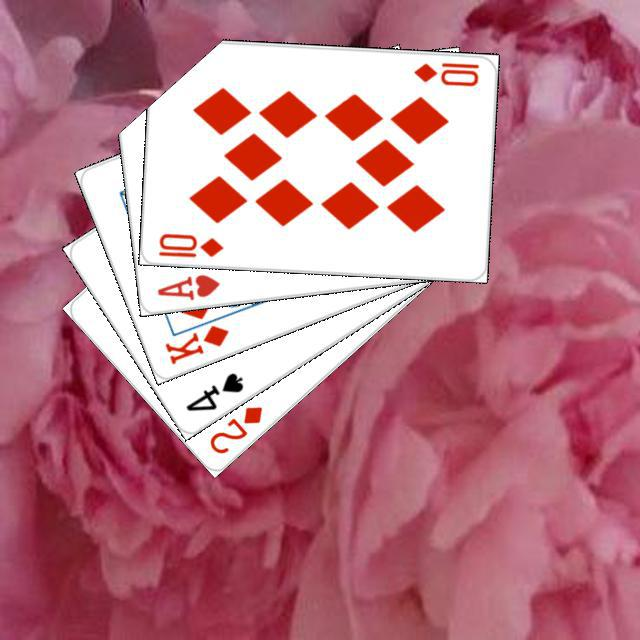10d: (153, 228, 225, 259), (409, 58, 481, 88)
2d: (204, 401, 265, 456)
4s: (180, 367, 246, 413)
Ah: (152, 269, 222, 302)
Kd: (159, 320, 231, 366)
